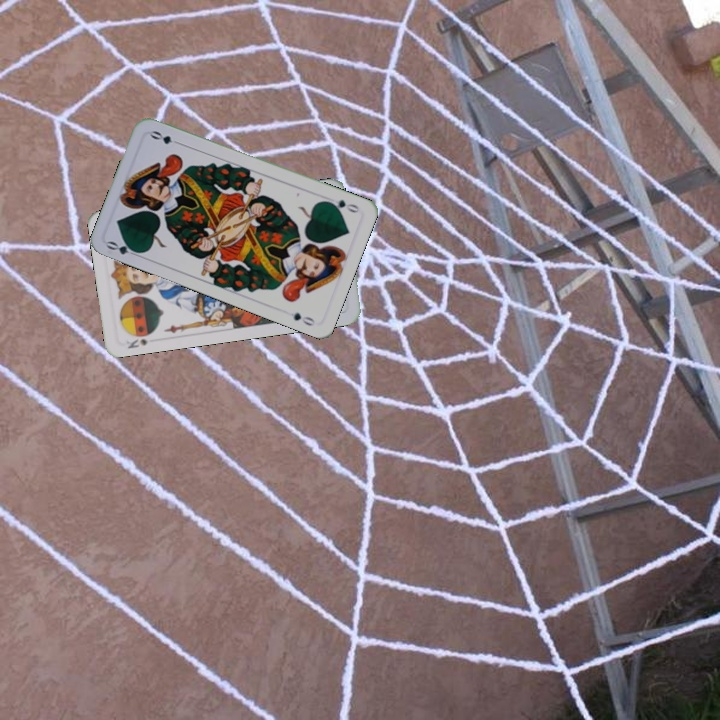GO: (103, 237, 144, 260), (322, 196, 362, 215)
SK: (122, 335, 151, 351)
